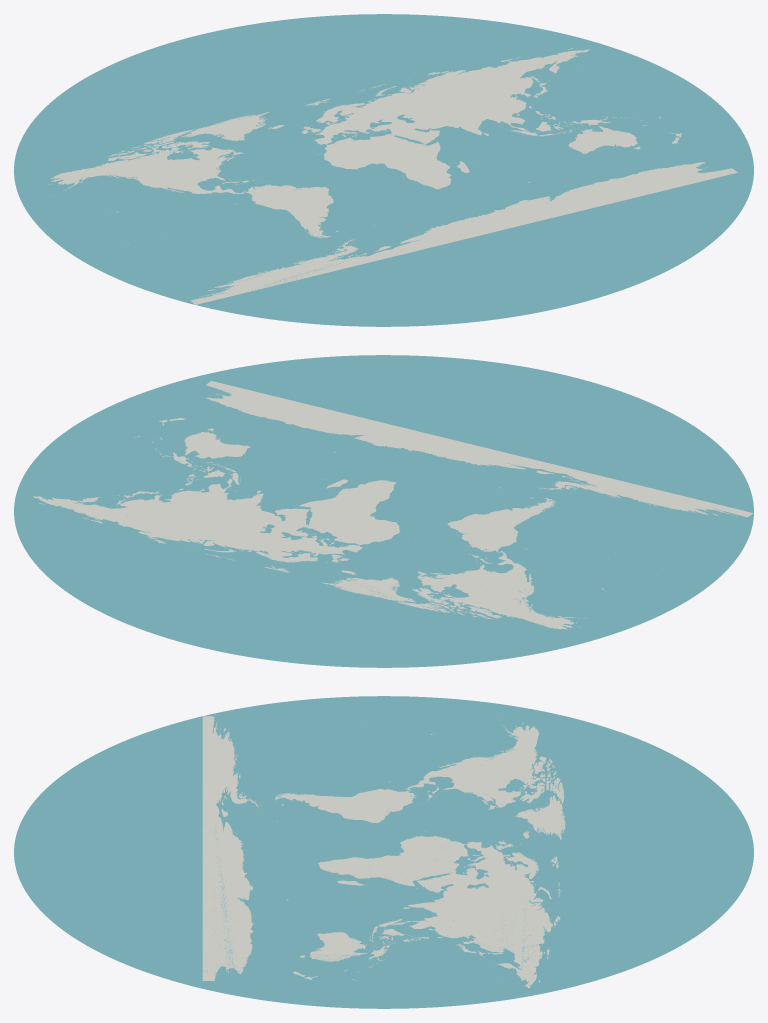
3 views of the same model, one above another, from view 1: azimuth 30°, elevation 25°; view 2: azimuth 150°, elevation 25°; view 3: azimuth 270°, elevation 25° (orthographic).
Visible parts, largest first — view 1: regional-base; view 2: regional-base; view 3: regional-base.
Boxes of the visible parts, x1,y1,x2,y2 form: regional-base: [14, 14, 753, 326]; regional-base: [14, 355, 753, 667]; regional-base: [14, 696, 753, 1008].
Bounding box in the file's own units: 3.94e+07 × 0.8 × 3.94e+07.
